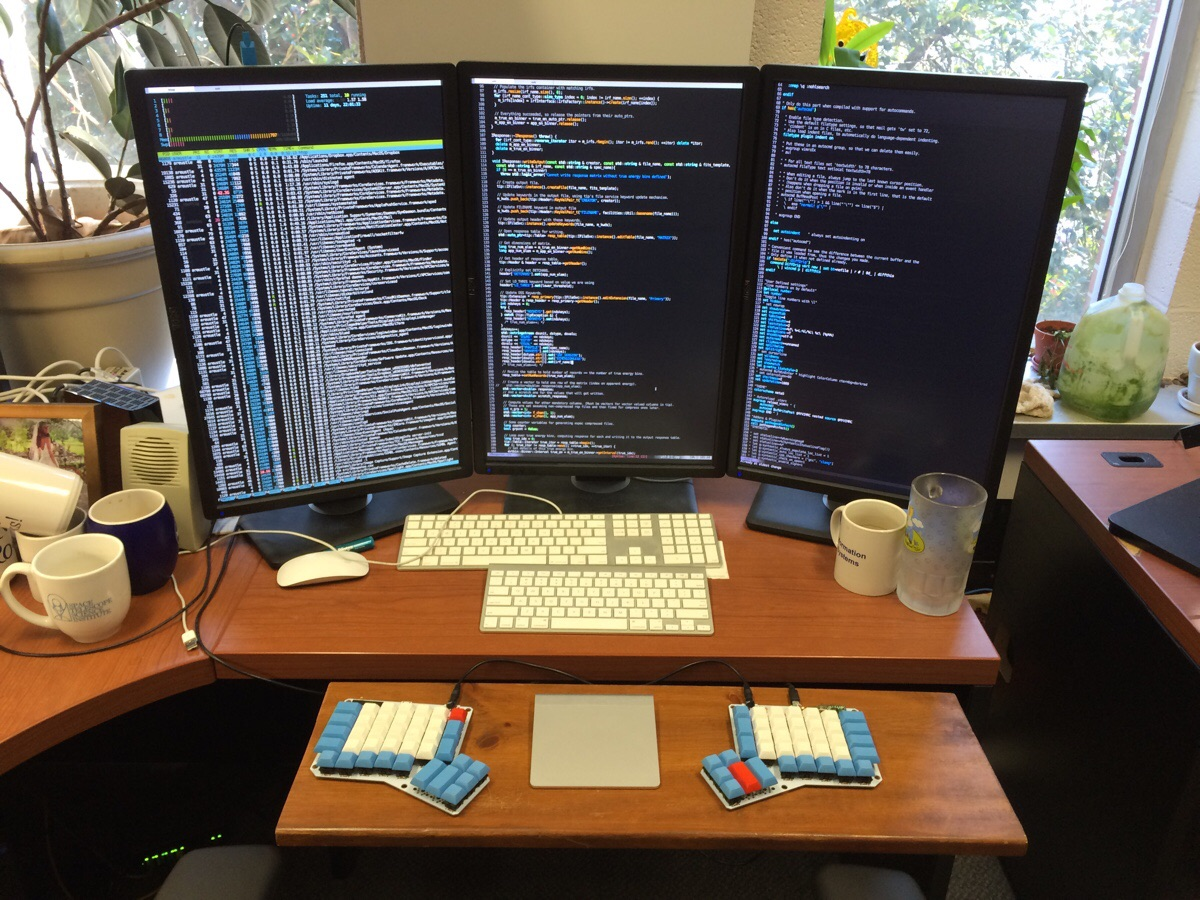Cup: (892, 475, 991, 623)
Decoration (Picture): (1, 393, 115, 497)
Decoration (Plant): (1, 10, 211, 408)
Desk (Generic): (1, 407, 1034, 900)
External Speakers (Generic): (106, 423, 227, 564)
Keyboard (Ergonomic): (297, 685, 912, 822), (390, 505, 735, 573), (469, 553, 737, 640)
Monitor (Portrait): (114, 67, 477, 515), (732, 65, 1093, 505), (457, 50, 751, 501)
Mouse (Ergonomic): (268, 541, 384, 592)
Mouse (Magic Trackpad): (529, 693, 663, 790)
Mug: (6, 479, 188, 668), (820, 496, 911, 610)
